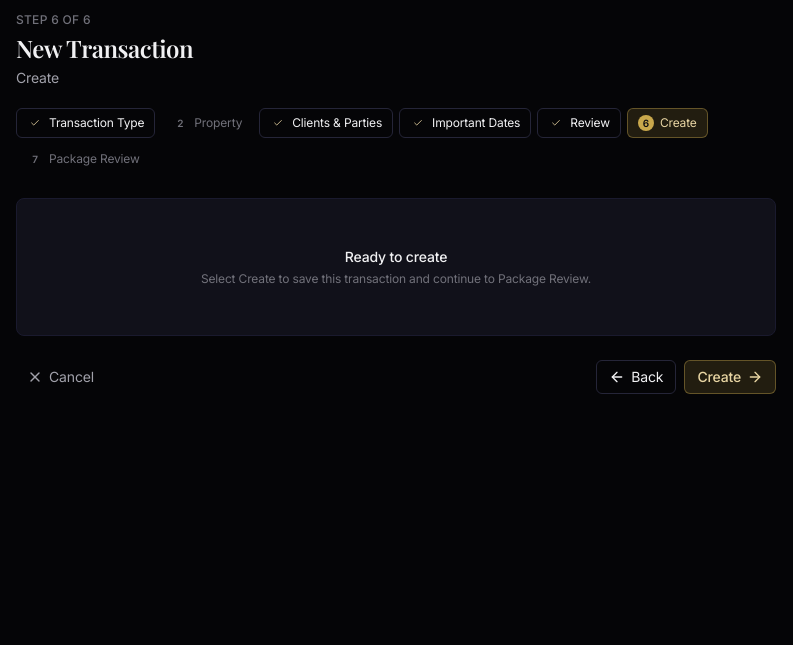
it: pre-submit guard: invalid data jumps back to the offending step, no fetch
The image size is (793, 645).
Check: the element with test id "wizard-step-create" is shown, box [201, 248, 591, 286]
What coordinates should you click on to do the following:
click the button "Create"
I would click on:
 (730, 377)
Its box is [684, 360, 776, 394].
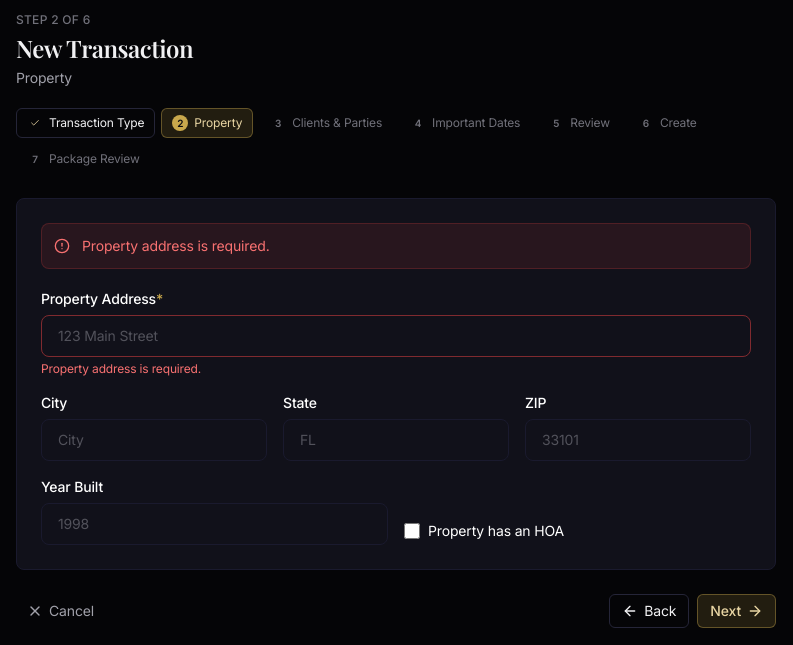
Check: the element with test id "wizard-step-property" is shown, box [41, 289, 751, 545]
